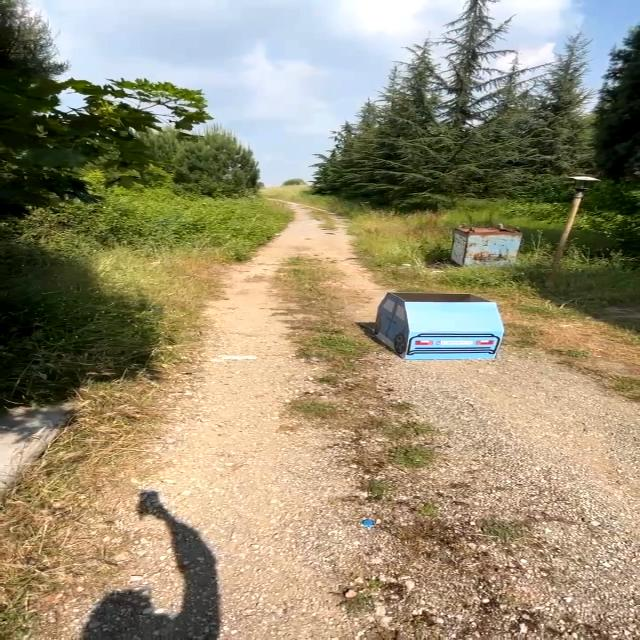blue_car: (356, 264, 531, 379)
